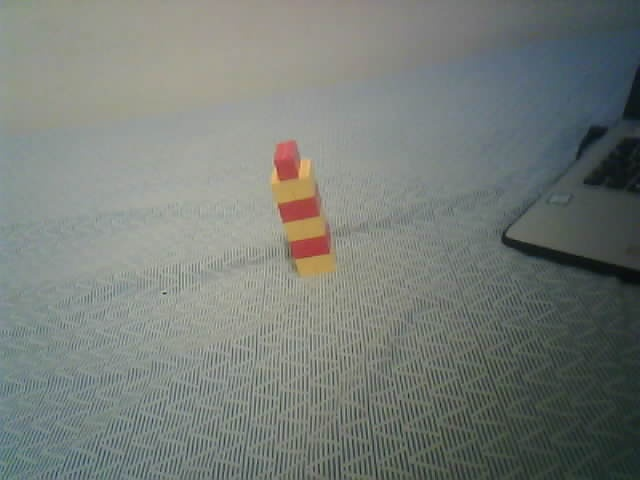lego: (269, 138, 338, 279)
